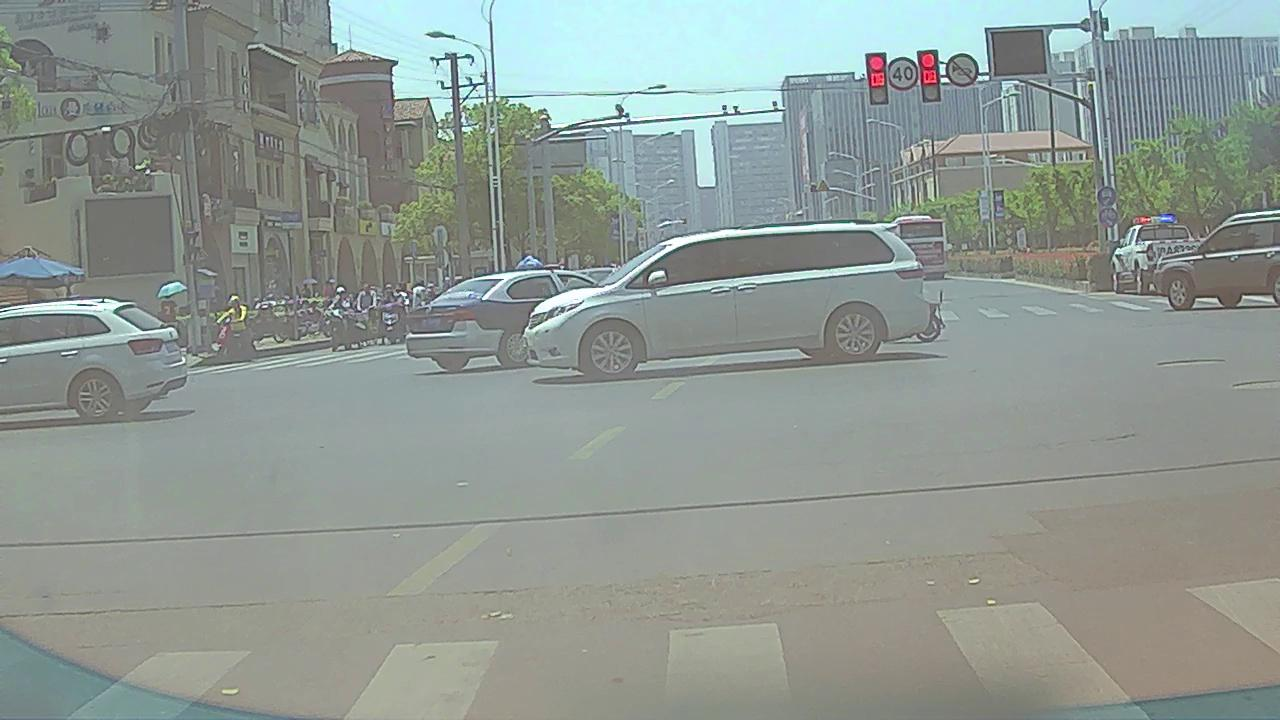traffic_light: (870, 53, 888, 102), (922, 53, 940, 101)
